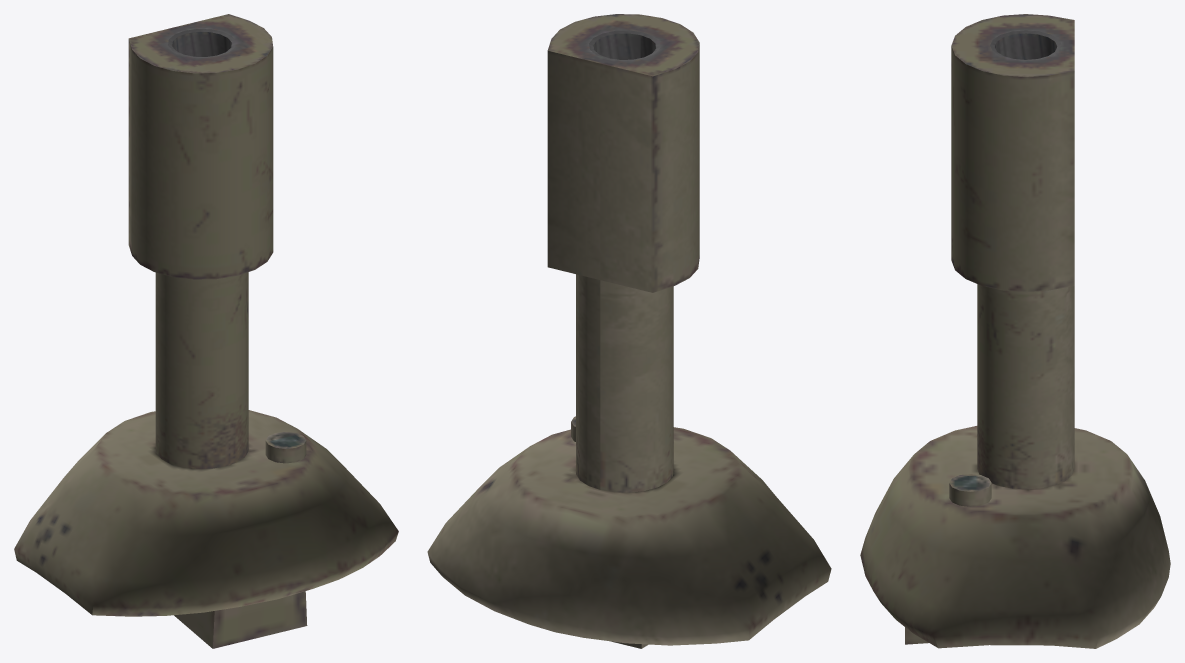
Rendered from Gun_03.glb.
3 renders of one model, left to right at view 1: azimuth 30°, elevation 25°; view 2: azimuth 150°, elevation 25°; view 3: azimuth 270°, elevation 25°, orthographic. The views are drawn at different scales.
Visible parts, largest first — view 1: set_0_group_0; view 2: set_0_group_0; view 3: set_0_group_0.
Part boxes in pixels (x1=…): set_0_group_0: x1=14, y1=14, x2=398, y2=648; set_0_group_0: x1=427, y1=14, x2=831, y2=648; set_0_group_0: x1=860, y1=14, x2=1170, y2=648.
Size of the model in its own units: 0.5663 by 0.9635 by 0.4712.
Materials: 1 (1 with a texture image).
